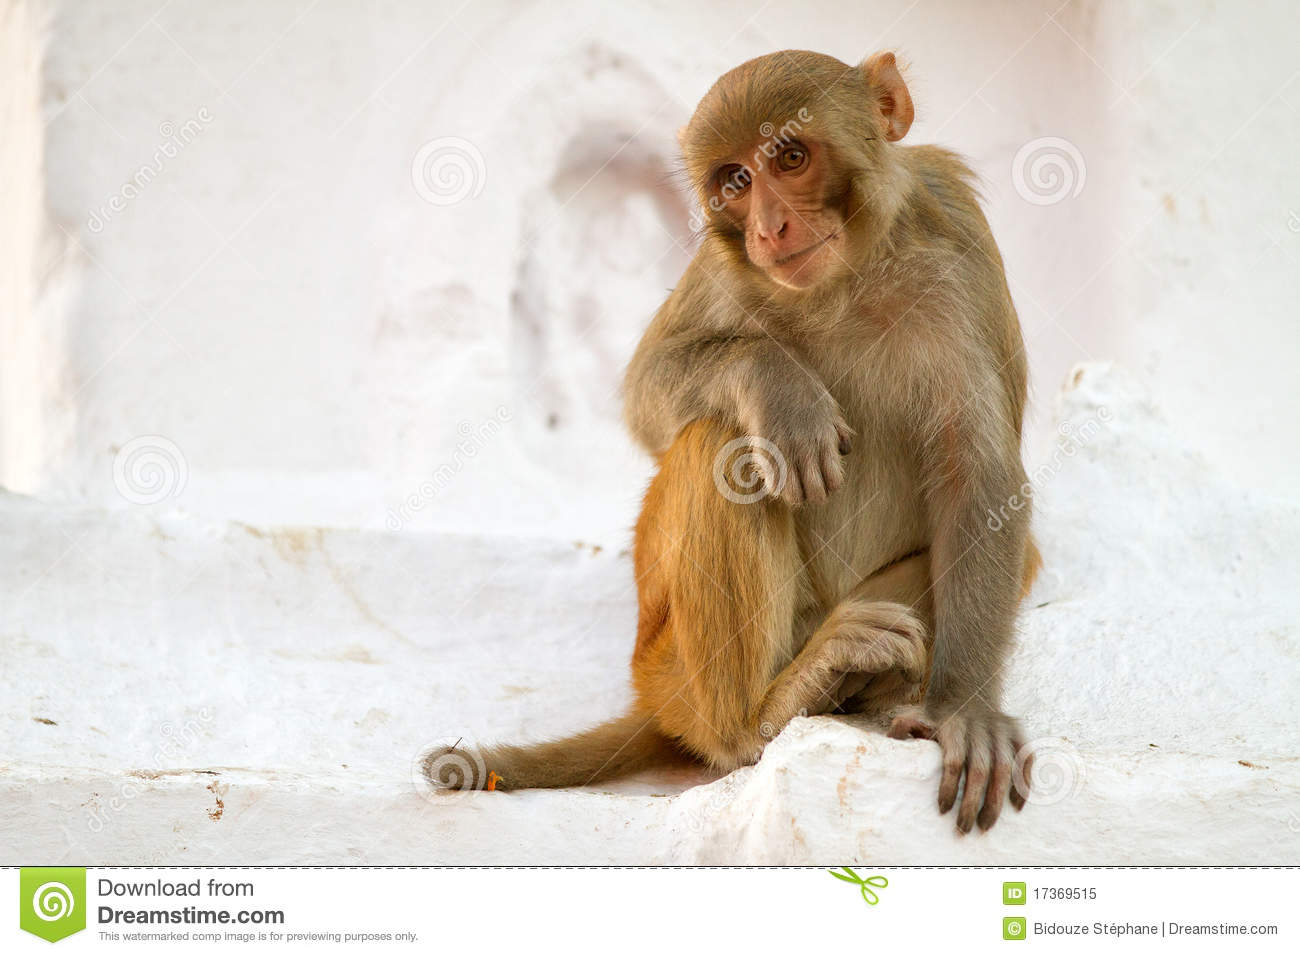monkey: (602, 30, 1071, 822)
